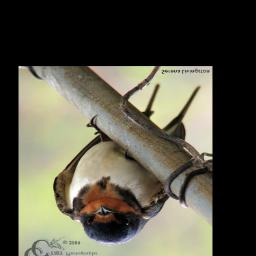Swallow: (53, 84, 202, 245)
